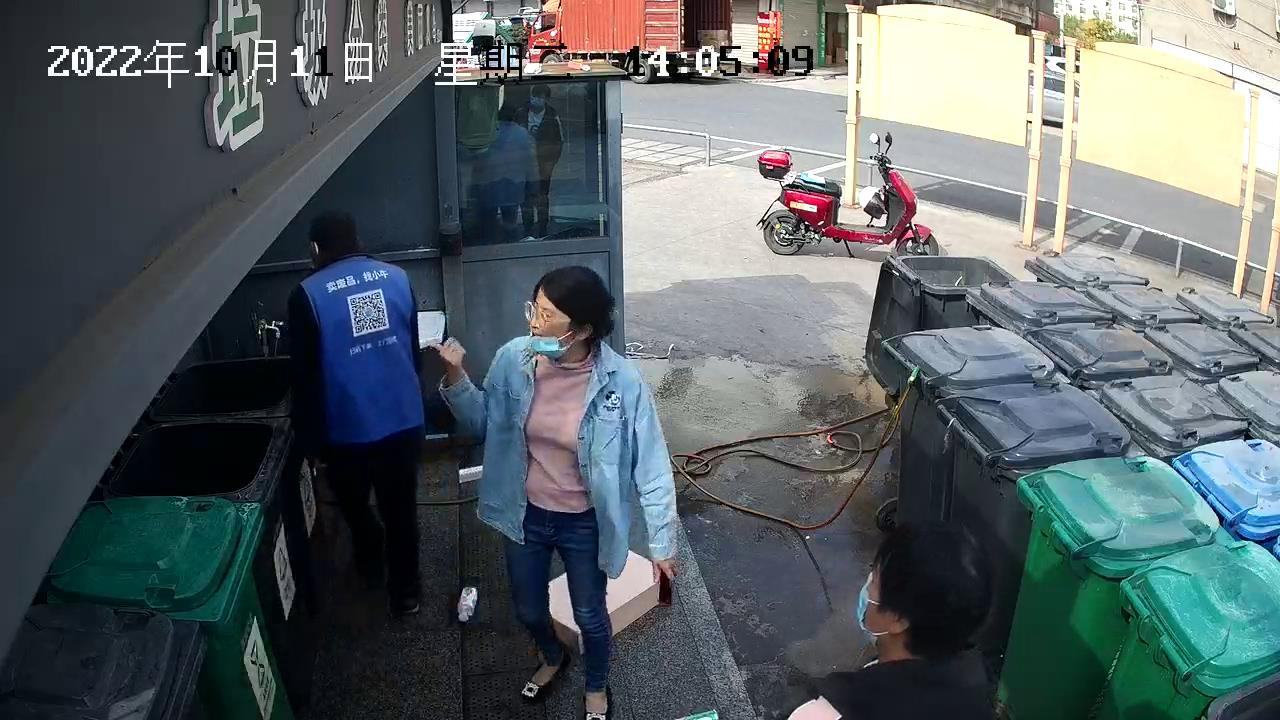person: (783, 518, 1011, 720)
suliaozhipin: (455, 582, 479, 623)
worker: (429, 264, 681, 720), (284, 207, 428, 620)
zhizhipin: (539, 548, 667, 656)
